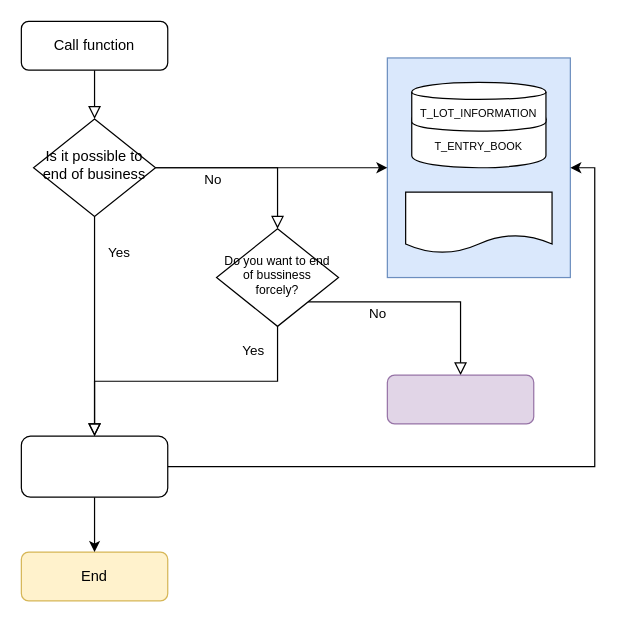
Image size: 626x622. Some labels were removed from this diagram. The centre of each missing label's shape, as x and y in pixels:
"Billing for day" belongs at (x=478, y=222).
"Call Function4_[for today]" belongs at (x=460, y=399).
"End of Business" belongs at (x=94, y=466).
